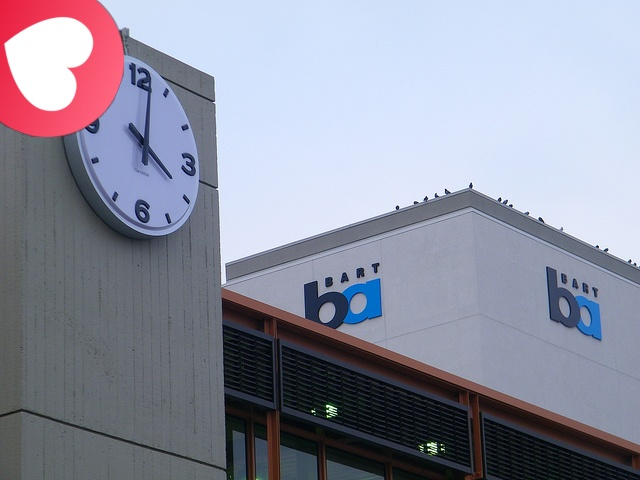love: (0, 0, 124, 137)
